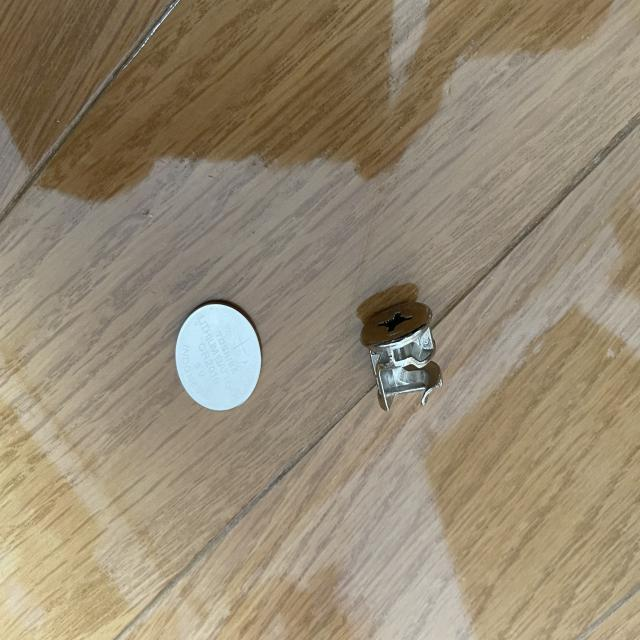COIN: (174, 305, 260, 411)
